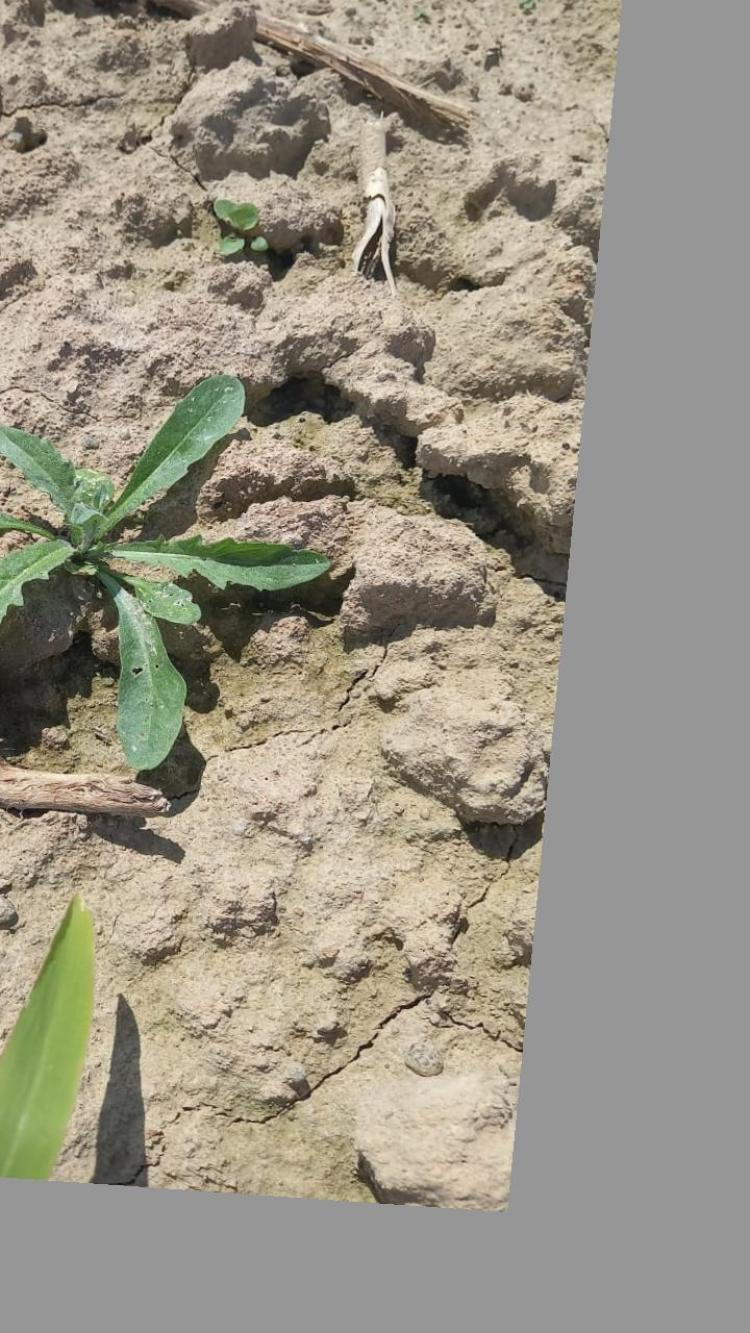osot: (0, 389, 335, 770)
